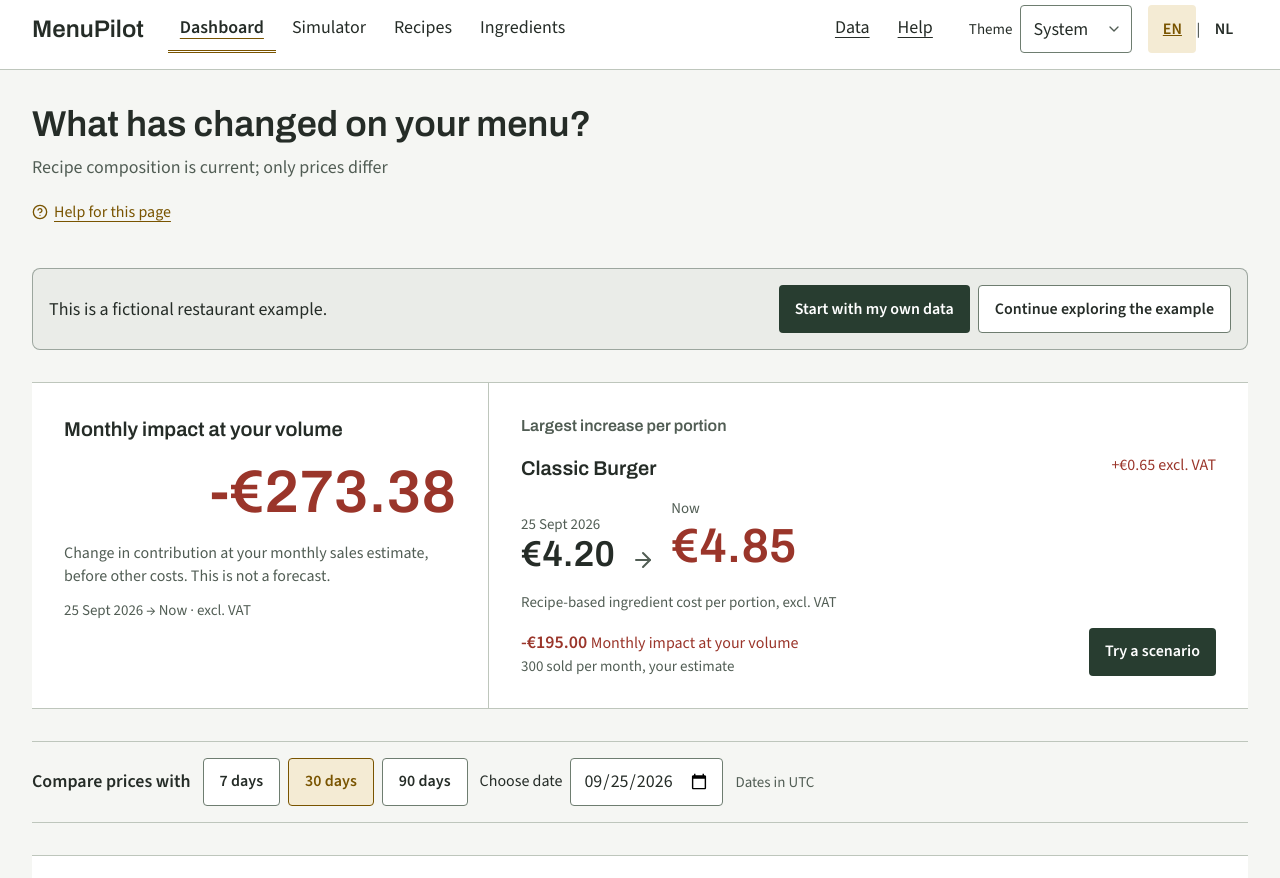
it: shows actual excluded reasons in Dutch, names missing volume and highlights the largest increase
Click the button with aria-label "NL – Nederlands": [1224, 29] box [1200,5,1248,53]
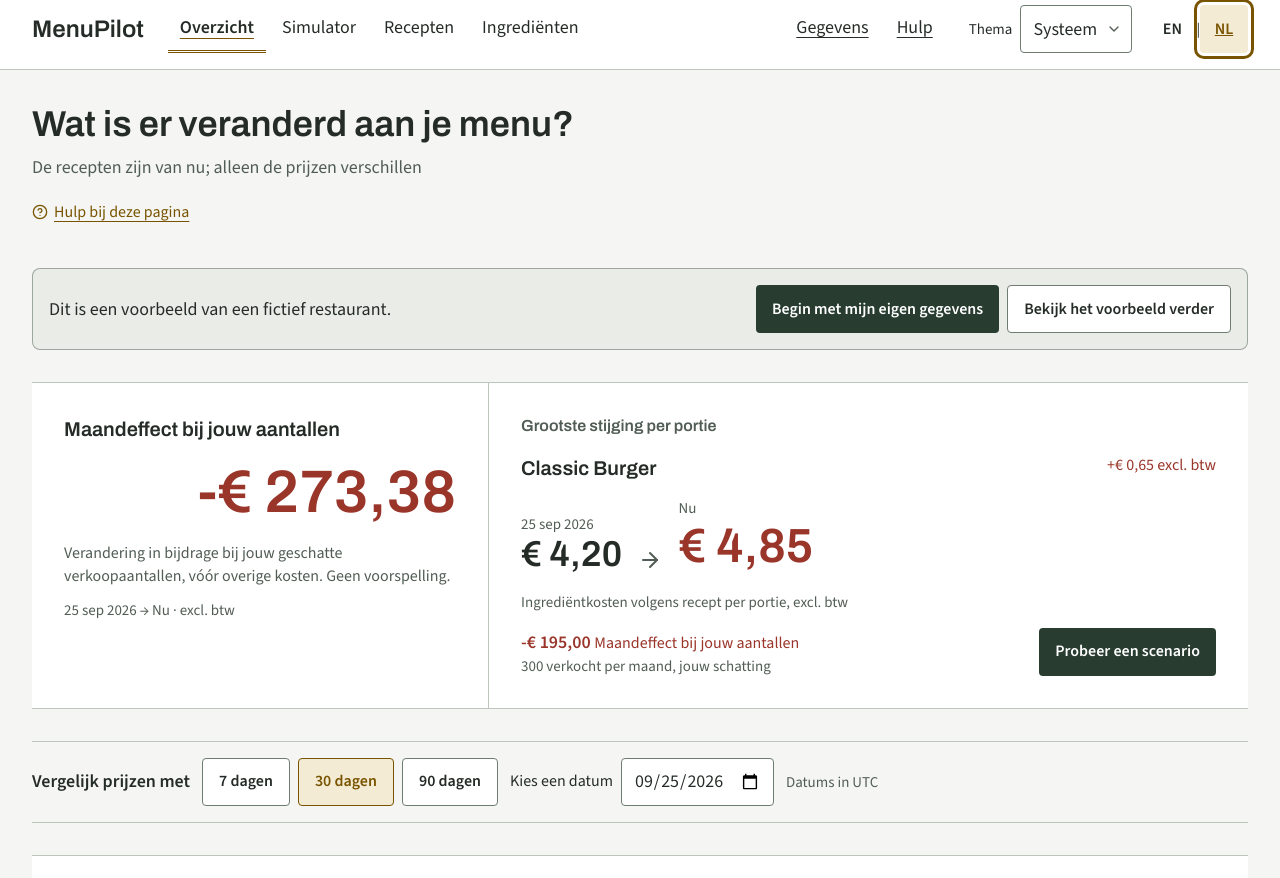
In the date field labelled "Kies een datum": [698, 782] box [621,758,774,806], type "2026-07-20"
(page scrolled)
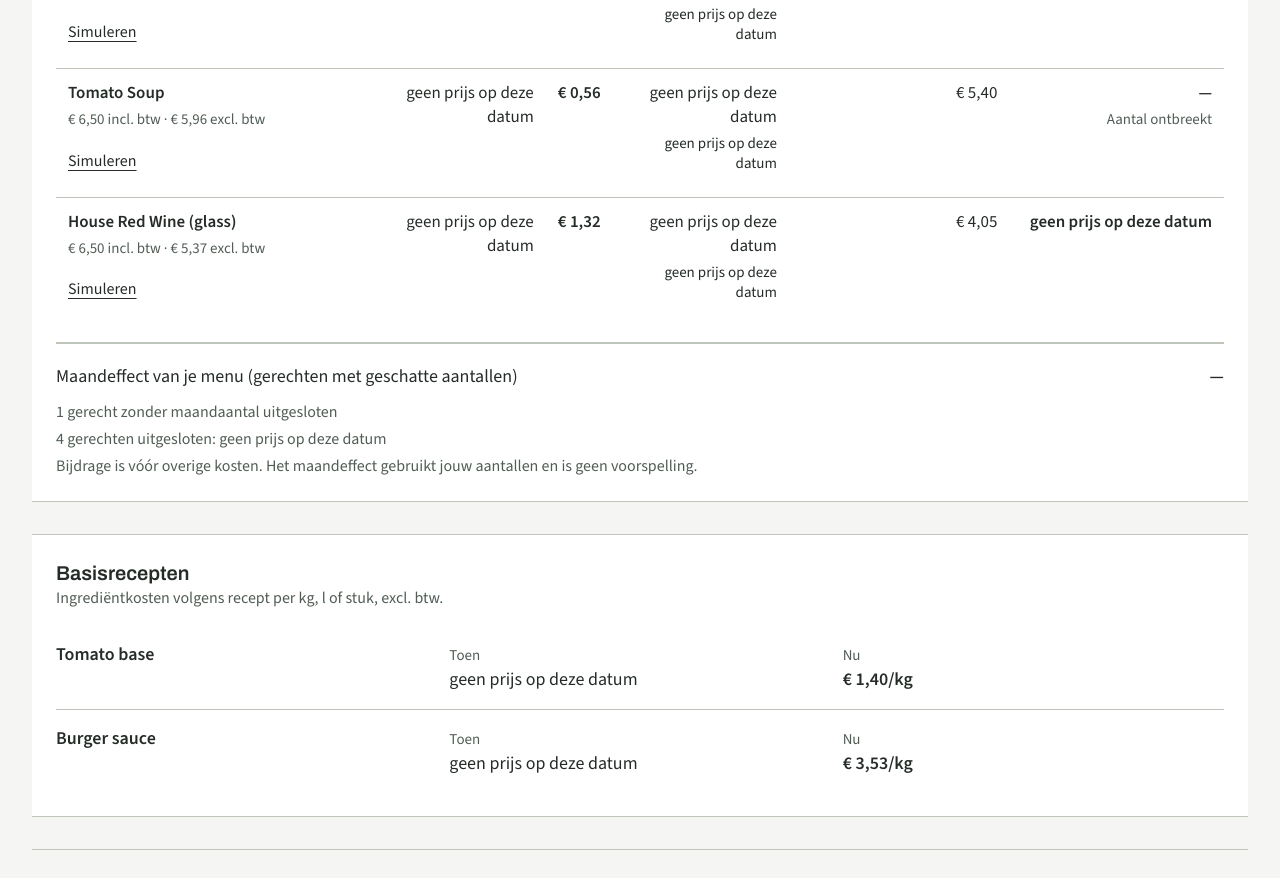
Expected: the text "4 gerechten uitgesloten: geen prijs op deze datum" is shown, [56,428,387,449]
